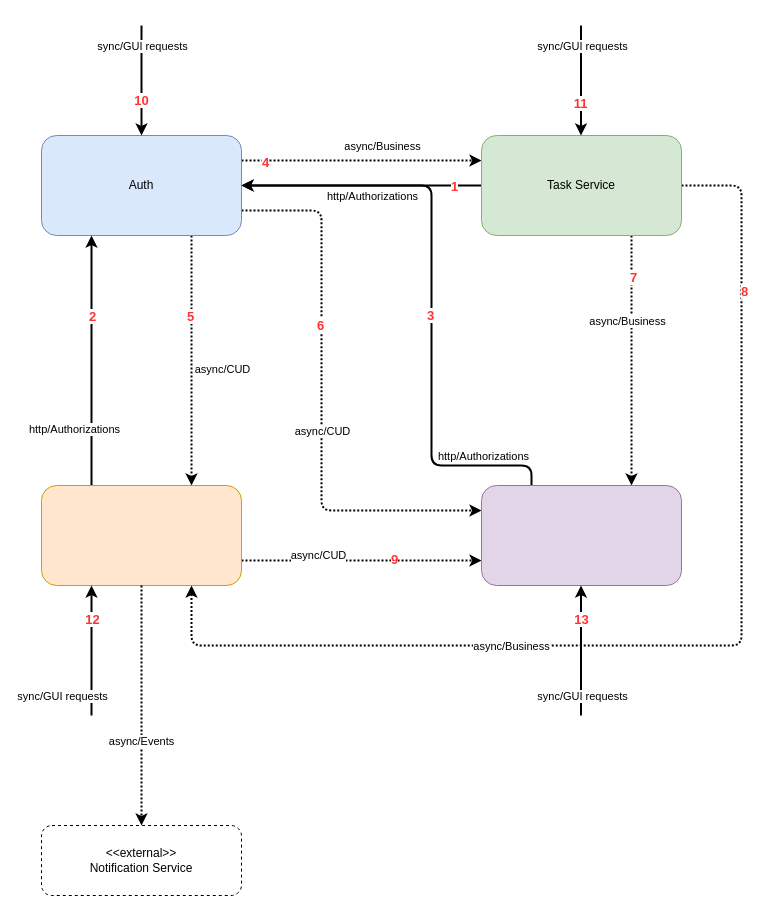
The diagram is 768 pixels wide and 913 high, and some of its shapes have lost their labels. The shapes that lost their labels are listed below. From the top down, each one's box as (x1, y1, x2, y2) in pixels, then its label:
(40, 484, 242, 586): Accounting Service
(480, 484, 682, 586): Analysis Service
